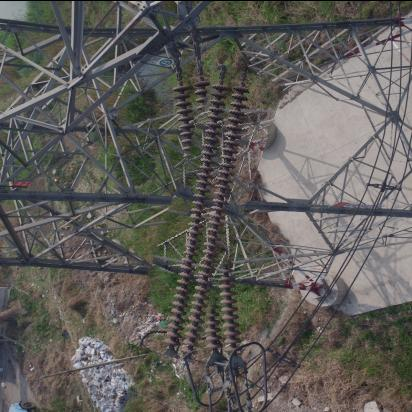insulator: (149, 64, 265, 362)
